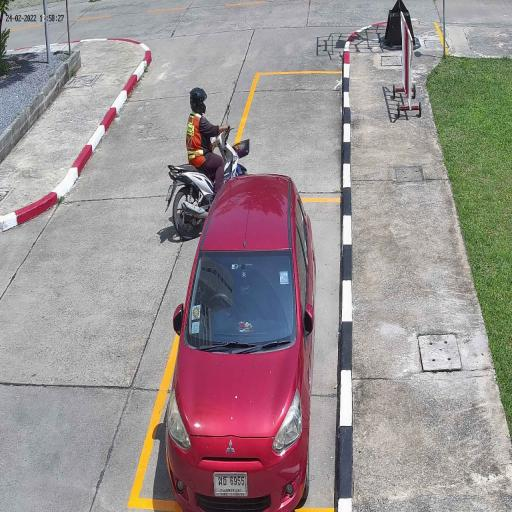car: (164, 172, 316, 512)
motorcycle: (166, 160, 248, 242)
